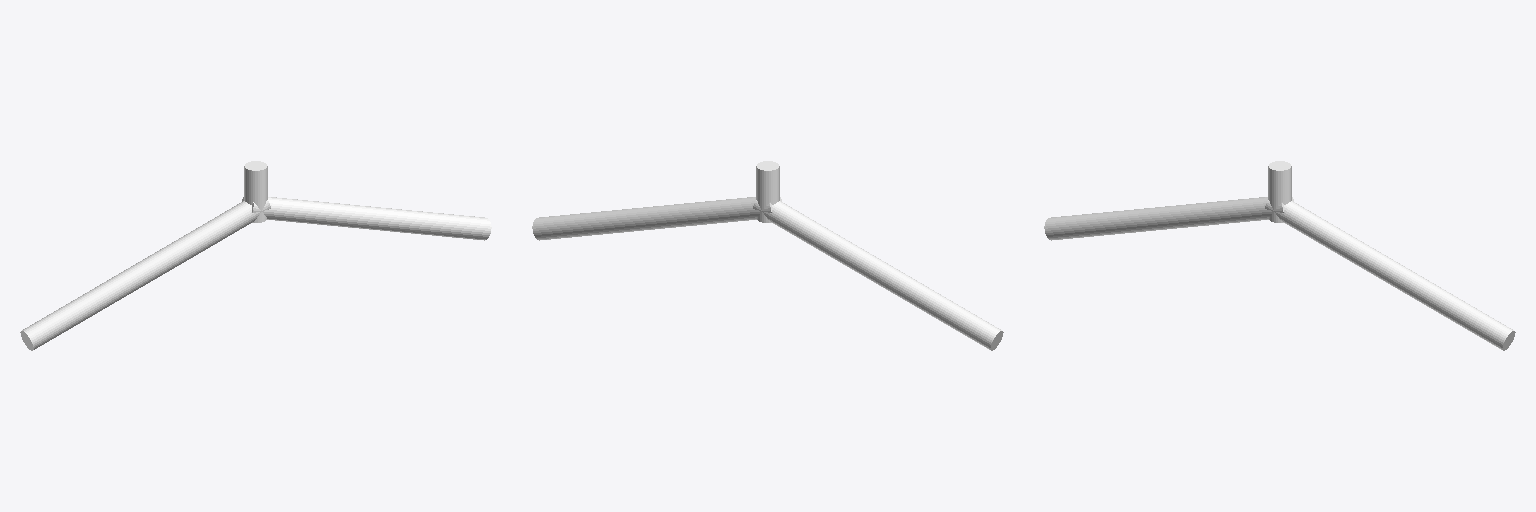
robot.urdf — rod:
<?xml version="1.0" ?>
<robot name="rod">

<link name="rod_link_top">
    <inertial>
      <origin rpy="0 0 0" xyz="0 0 0"/>
      <mass value="0.01"/>
      <inertia ixx="0.0001" ixy="0" ixz="0" iyy="0.0001" iyz="0" izz="0.0001"/>
    </inertial>
    <visual>
      <origin rpy="0 0 0" xyz="0 0 0.05"/>
      <geometry>
        <cylinder length="0.05" radius="0.01"/>
      </geometry>
       <material name="white">
        <color rgba="1 1 1 1"/>
      </material>
    </visual>
    <collision>
      <origin rpy="0 0 0" xyz="0 0 0.05"/>
      <geometry>
        <cylinder length="0.05" radius="0.01"/>
      </geometry>
    </collision>
  </link>
  <joint name="top_to_left" type="fixed">
    <parent link="rod_link_top"/>
    <child link="rod_link_left"/>
    <origin xyz="0 0 0.0" rpy="0 0 0"/>
  </joint>
  <joint name="top_to_right" type="fixed">
    <parent link="rod_link_top"/>
    <child link="rod_link_right"/>
    <origin xyz="0 0 0.0" rpy="0 0 0"/>
  </joint>
  <link name="rod_link_left">
    <inertial>
      <origin rpy="0 0 0" xyz="0 0 0"/>
      <mass value="0.01"/>
      <inertia ixx="0.0001" ixy="0" ixz="0" iyy="0.0001" iyz="0" izz="0.0001"/>
    </inertial>
    <visual>
      <origin rpy="0 1.25663706144 0" xyz="-0.11 0 0"/>
      <geometry>
        <cylinder length="0.25" radius="0.01"/>
      </geometry>
       <material name="white">
        <color rgba="1 1 1 1"/>
      </material>
    </visual>
    <collision>
      <origin rpy="0 1.25663706144 0" xyz="-0.11 0 0"/>
      <geometry>
        <cylinder length="0.25" radius="0.01"/>
      </geometry>
    </collision>
  </link>

    <link name="rod_link_right">
    <inertial>
      <origin rpy="0 0 0" xyz="0 0 0"/>
      <mass value="0.01"/>
      <inertia ixx="0.0001" ixy="0" ixz="0" iyy="0.0001" iyz="0" izz="0.0001"/>
    </inertial>
    <visual>
      <origin rpy="0 1.88495559215 0" xyz="0.11 0 0"/>
      <geometry>
        <cylinder length="0.25" radius="0.01"/>
      </geometry>
       <material name="white">
        <color rgba="1 1 1 1"/>
      </material>
    </visual>
    <collision>
      <origin rpy="0 1.88495559215 0" xyz="0.11 0 0"/>
      <geometry>
        <cylinder length="0.25" radius="0.01"/>
      </geometry>
    </collision>
  </link>
</robot>

--- Render facts (derived) ---
3 views of the same robot in one strip: view 1: azimuth 30°, elevation 25°; view 2: azimuth 150°, elevation 25°; view 3: azimuth 330°, elevation 25° (orthographic).
Robot: rod — 3 links, 2 joints (2 fixed); root link rod_link_top; default pose: all joints at 0.
Visible links, largest first — view 1: rod_link_left, rod_link_right, rod_link_top; view 2: rod_link_left, rod_link_right, rod_link_top; view 3: rod_link_right, rod_link_left, rod_link_top.
Boxes of the visible links, <box> form: rod_link_left: <box>20,200,270,350</box>; rod_link_right: <box>242,197,491,240</box>; rod_link_top: <box>244,161,267,222</box>; rod_link_left: <box>753,200,1003,350</box>; rod_link_right: <box>532,197,781,240</box>; rod_link_top: <box>756,161,779,222</box>; rod_link_right: <box>1265,200,1515,350</box>; rod_link_left: <box>1044,197,1293,240</box>; rod_link_top: <box>1268,161,1291,222</box>.
Bounding box of the posed robot: 0.4639 × 0.02 × 0.1231 m (x, y, z).
Geometry: primitives only (box / cylinder / sphere), no mesh files.